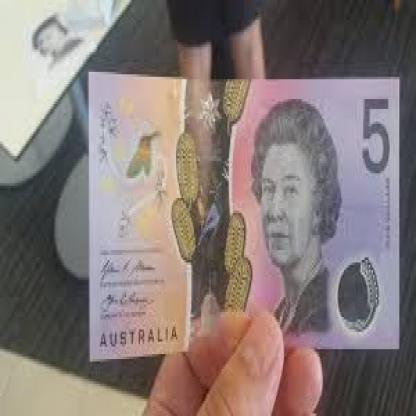billete: (87, 69, 398, 359)
